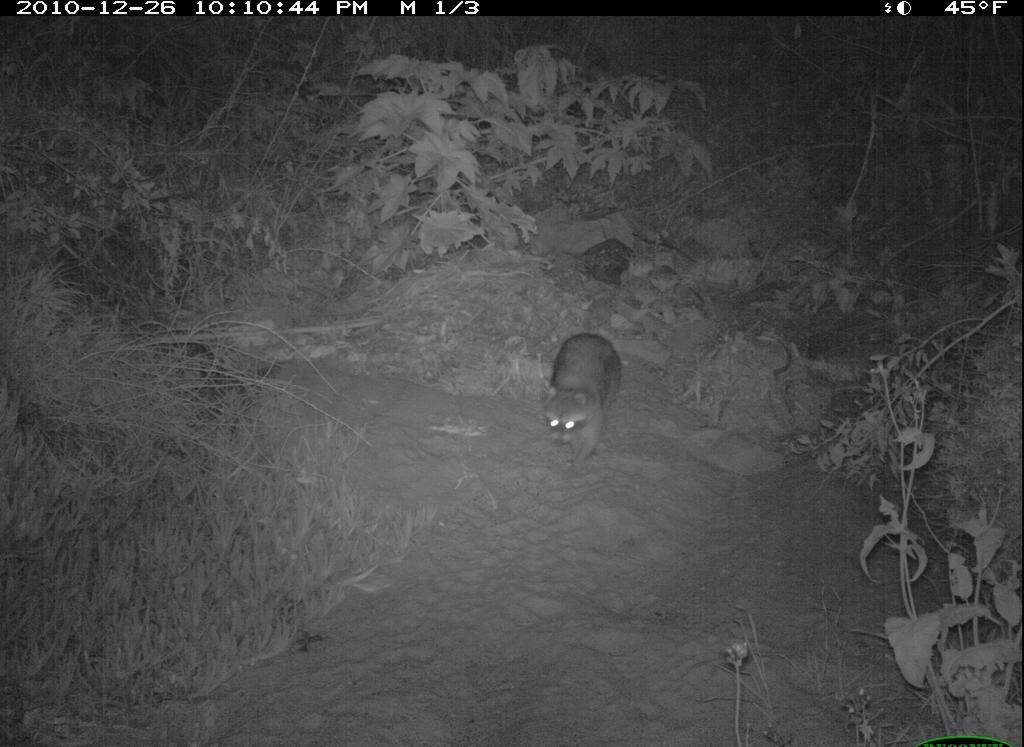raccoon: (525, 328, 642, 463)
